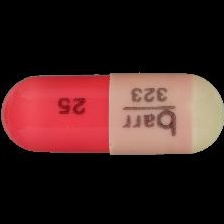0555-0323: (0, 0, 224, 224)
